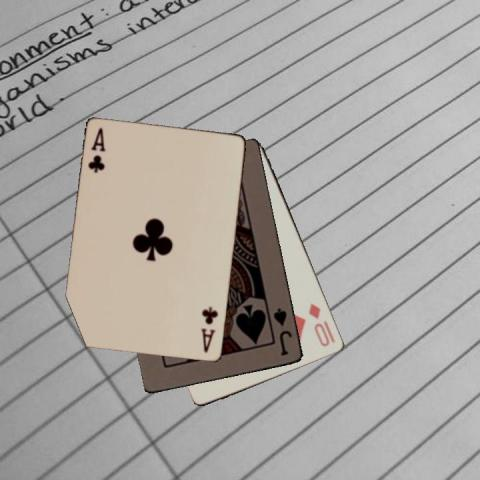10d: (306, 300, 332, 348)
Ac: (85, 125, 107, 175), (198, 304, 219, 355)
Js: (271, 306, 294, 358)
